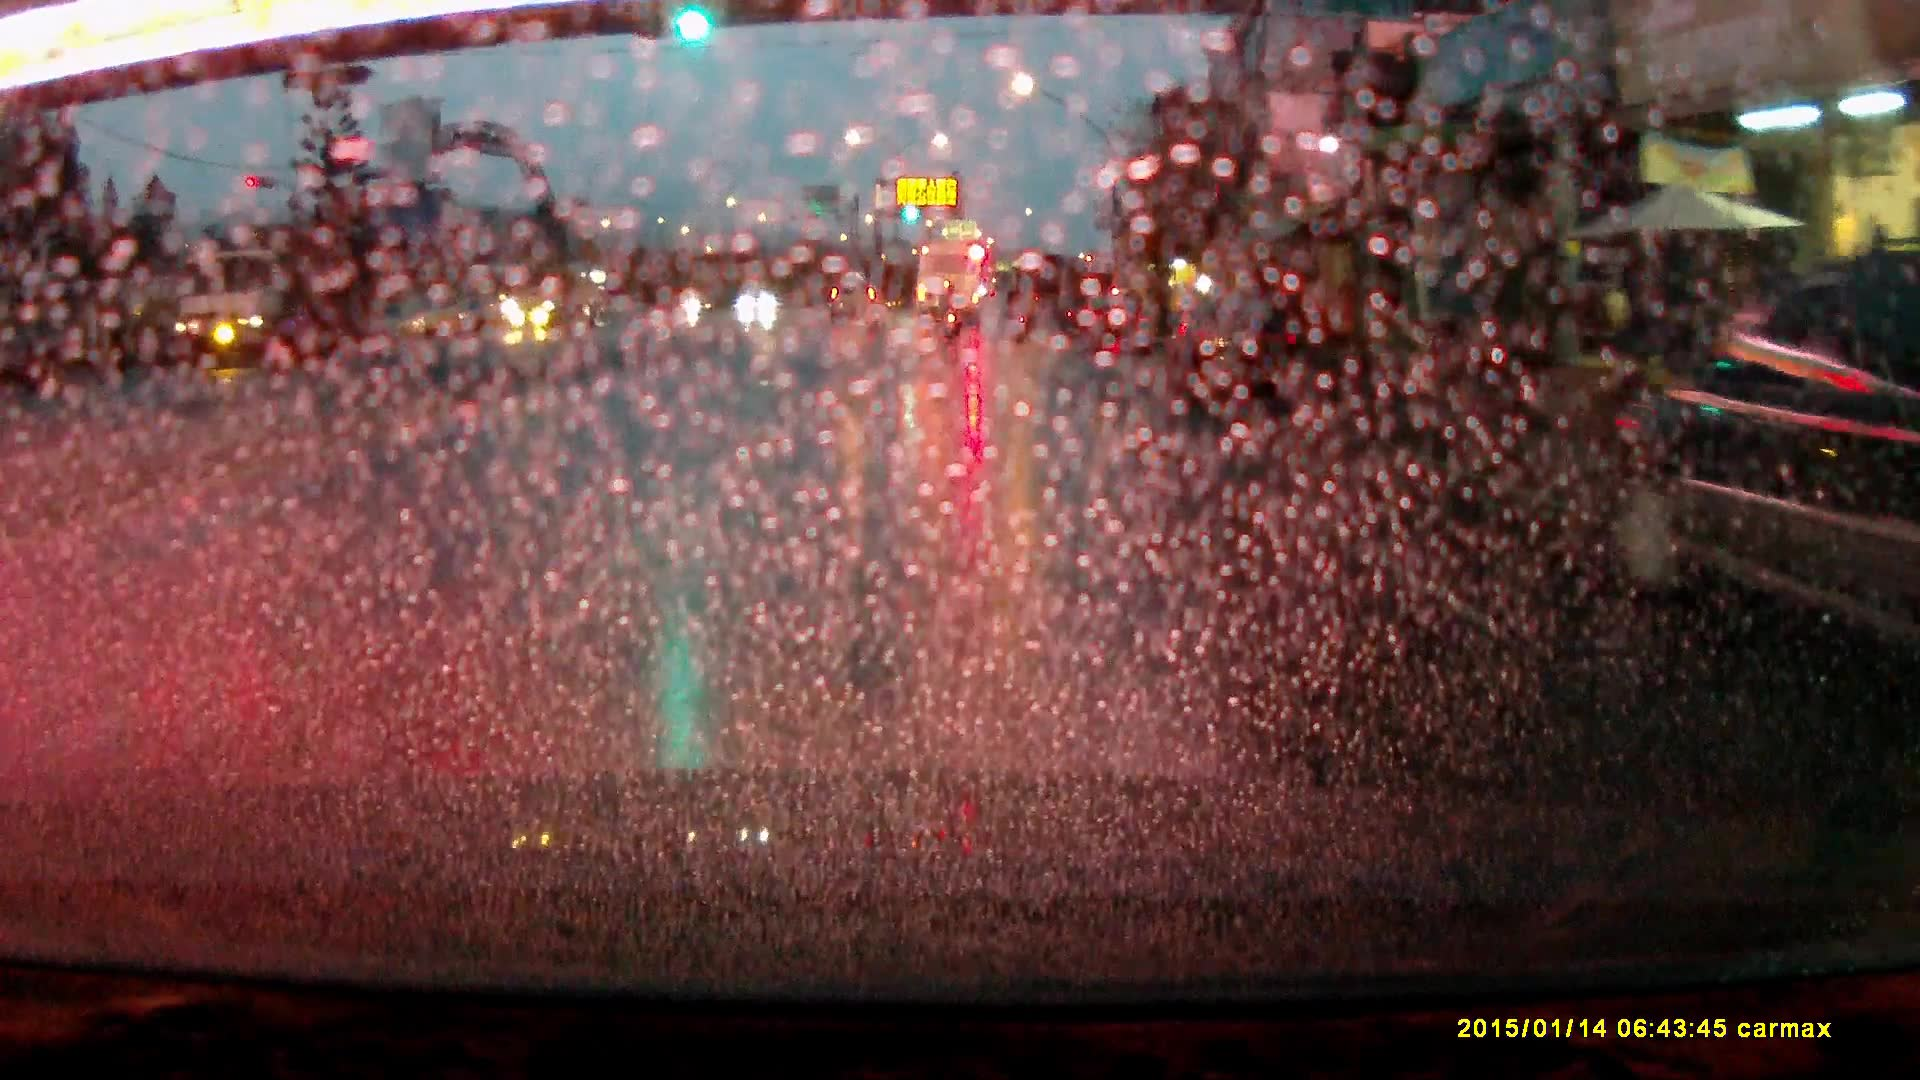rider: (942, 284, 968, 343)
vehicle: (1637, 316, 1920, 670), (167, 251, 365, 371), (1162, 309, 1303, 404), (506, 262, 599, 338), (917, 246, 983, 330), (1078, 300, 1148, 356), (828, 284, 885, 331), (740, 292, 782, 319)
